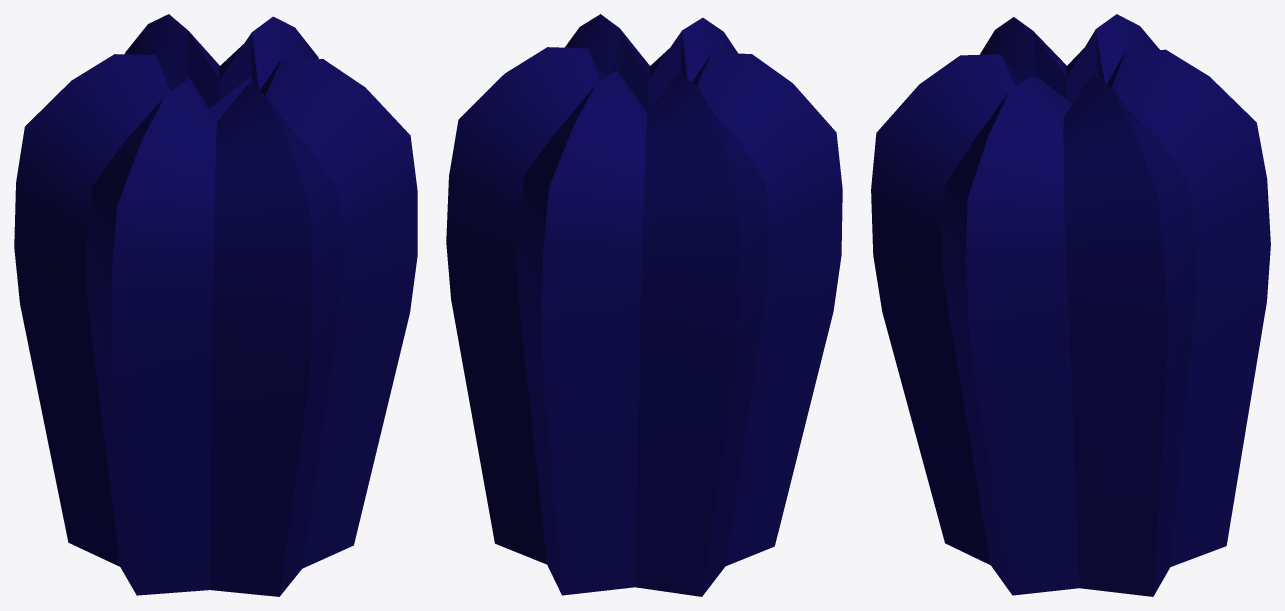
The model's file is david_star_cactus.fbx.
3 renders of one model, left to right at view 1: azimuth 30°, elevation 25°; view 2: azimuth 150°, elevation 25°; view 3: azimuth 270°, elevation 25°, orthographic.
Visible parts, largest first — view 1: small_cactus_type01; view 2: small_cactus_type01; view 3: small_cactus_type01.
Boxes of the visible parts, bbox=[...] form: small_cactus_type01: bbox=[14, 14, 417, 596]; small_cactus_type01: bbox=[446, 14, 842, 596]; small_cactus_type01: bbox=[871, 14, 1270, 596].
Size of the model in its own units: 9.76 by 15.23 by 11.17.
